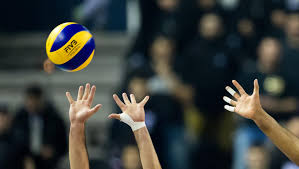ball: (45, 21, 96, 74)
